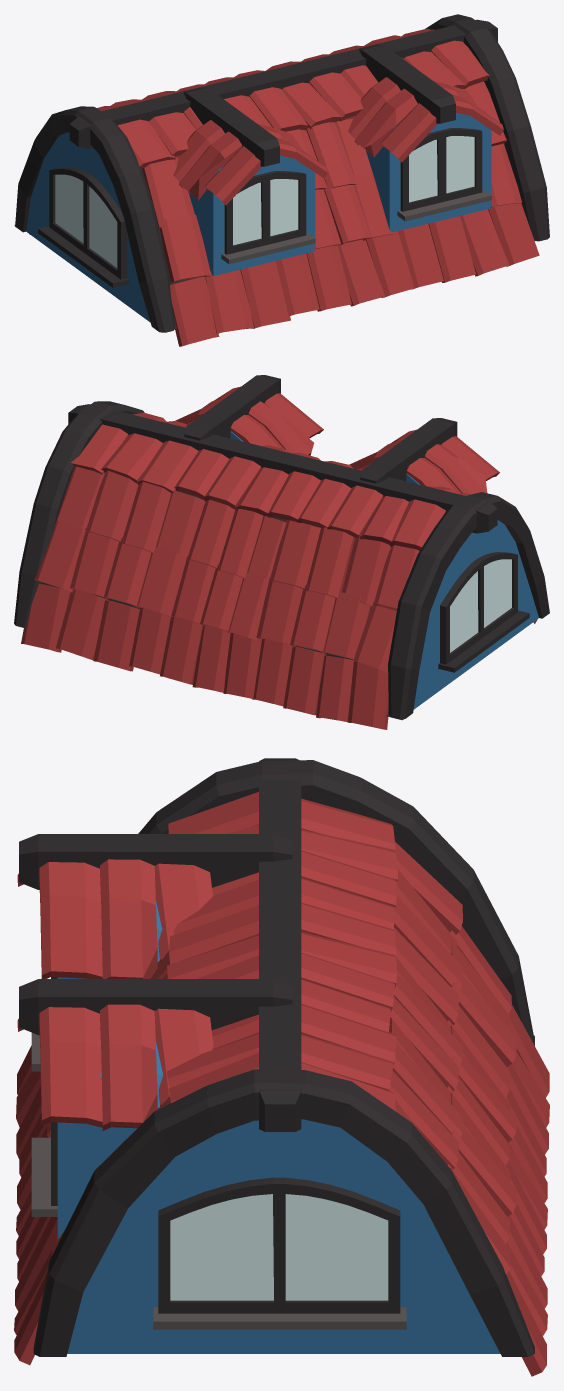
The model's file is Testhouse_Roof.fbx.
The picture shows the model from 3 angles, top to bottom: view 1: azimuth 30°, elevation 25°; view 2: azimuth 150°, elevation 25°; view 3: azimuth 270°, elevation 25°; orthographic projection. The views are drawn at different scales.
Parts seen in each view (by area): view 1: Testhouse_Roof; view 2: Testhouse_Roof; view 3: Testhouse_Roof.
Part boxes in pixels (x1=…): Testhouse_Roof: x1=14, y1=14, x2=549, y2=346; Testhouse_Roof: x1=14, y1=375, x2=549, y2=729; Testhouse_Roof: x1=14, y1=758, x2=549, y2=1376.
Bounding box in the file's own units: 219 × 143 × 91.71.
